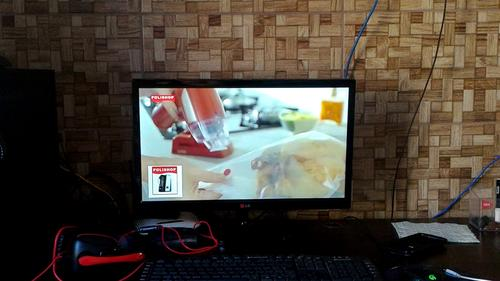Polishop #1: (147, 164, 182, 198)
